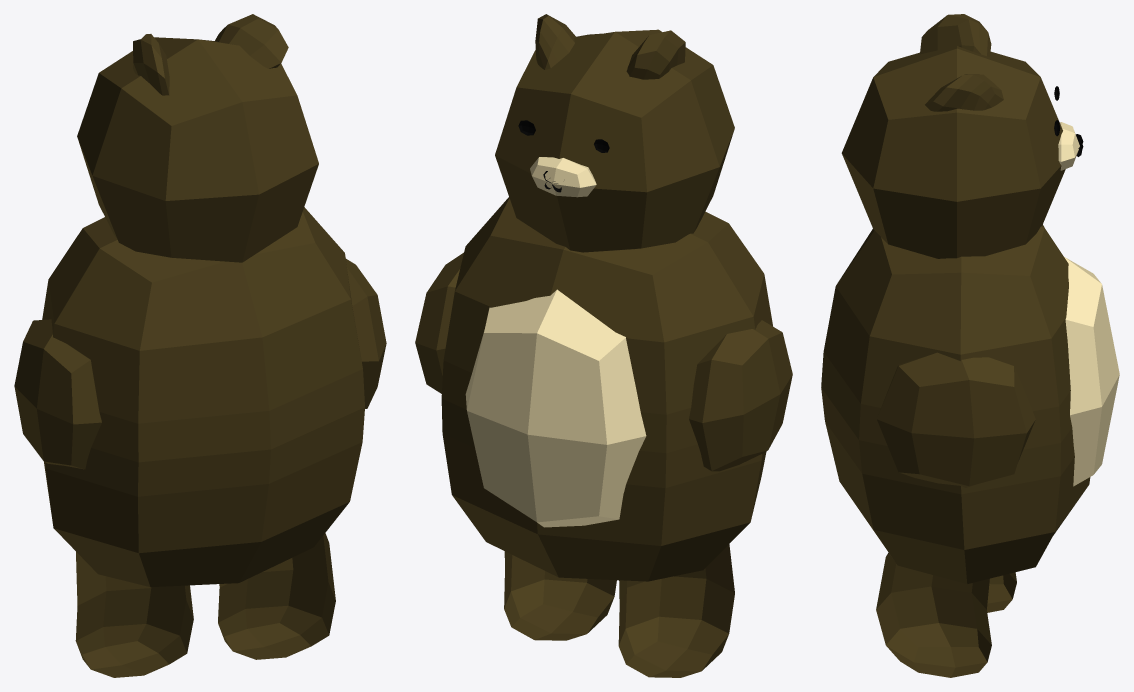
File: bear.glb
3 views of the same model, side by side, from view 1: azimuth 30°, elevation 25°; view 2: azimuth 150°, elevation 25°; view 3: azimuth 270°, elevation 25° (orthographic). The views are drawn at different scales.
Visible parts, largest first — view 1: Cube.005, Cube, Cube.009, Cube.008, Cube.006, Cube.007, Plane.001, Plane.002; view 2: Cube.005, Cube, Cube.012, Cube.006, Cube.009, Cube.008, Cube.007, Plane.002, Cube.001, Plane.001; view 3: Cube.005, Cube, Cube.007, Cube.008, Cube.012, Plane.001, Plane.002, Cube.009, Cube.001.
Boxes of the visible parts, x1,y1,x2,y2 form: Cube.005: (42,207,364,587); Cube: (77,37,318,262); Cube.009: (75,552,193,677); Cube.008: (218,533,335,659); Cube.006: (14,319,101,469); Cube.007: (346,259,386,408); Plane.001: (215,14,288,68); Plane.002: (133,34,169,95); Cube.005: (441,197,772,581); Cube: (495,29,734,252); Cube.012: (465,289,646,527); Cube.006: (689,320,792,471); Cube.009: (618,544,734,677); Cube.008: (504,551,616,640); Cube.007: (415,252,463,393); Plane.002: (626,30,685,79); Cube.001: (530,157,596,197); Plane.001: (535,14,576,69); Cube.005: (821,224,1090,584); Cube: (841,46,1065,258); Cube.007: (877,352,1035,487); Cube.008: (876,552,991,677); Cube.012: (1064,257,1119,486); Plane.001: (925,74,1003,111); Plane.002: (920,14,991,56); Cube.009: (987,572,1016,612); Cube.001: (1058,122,1079,170).
Size of the model in its own units: 8.54 by 15.29 by 6.9.
